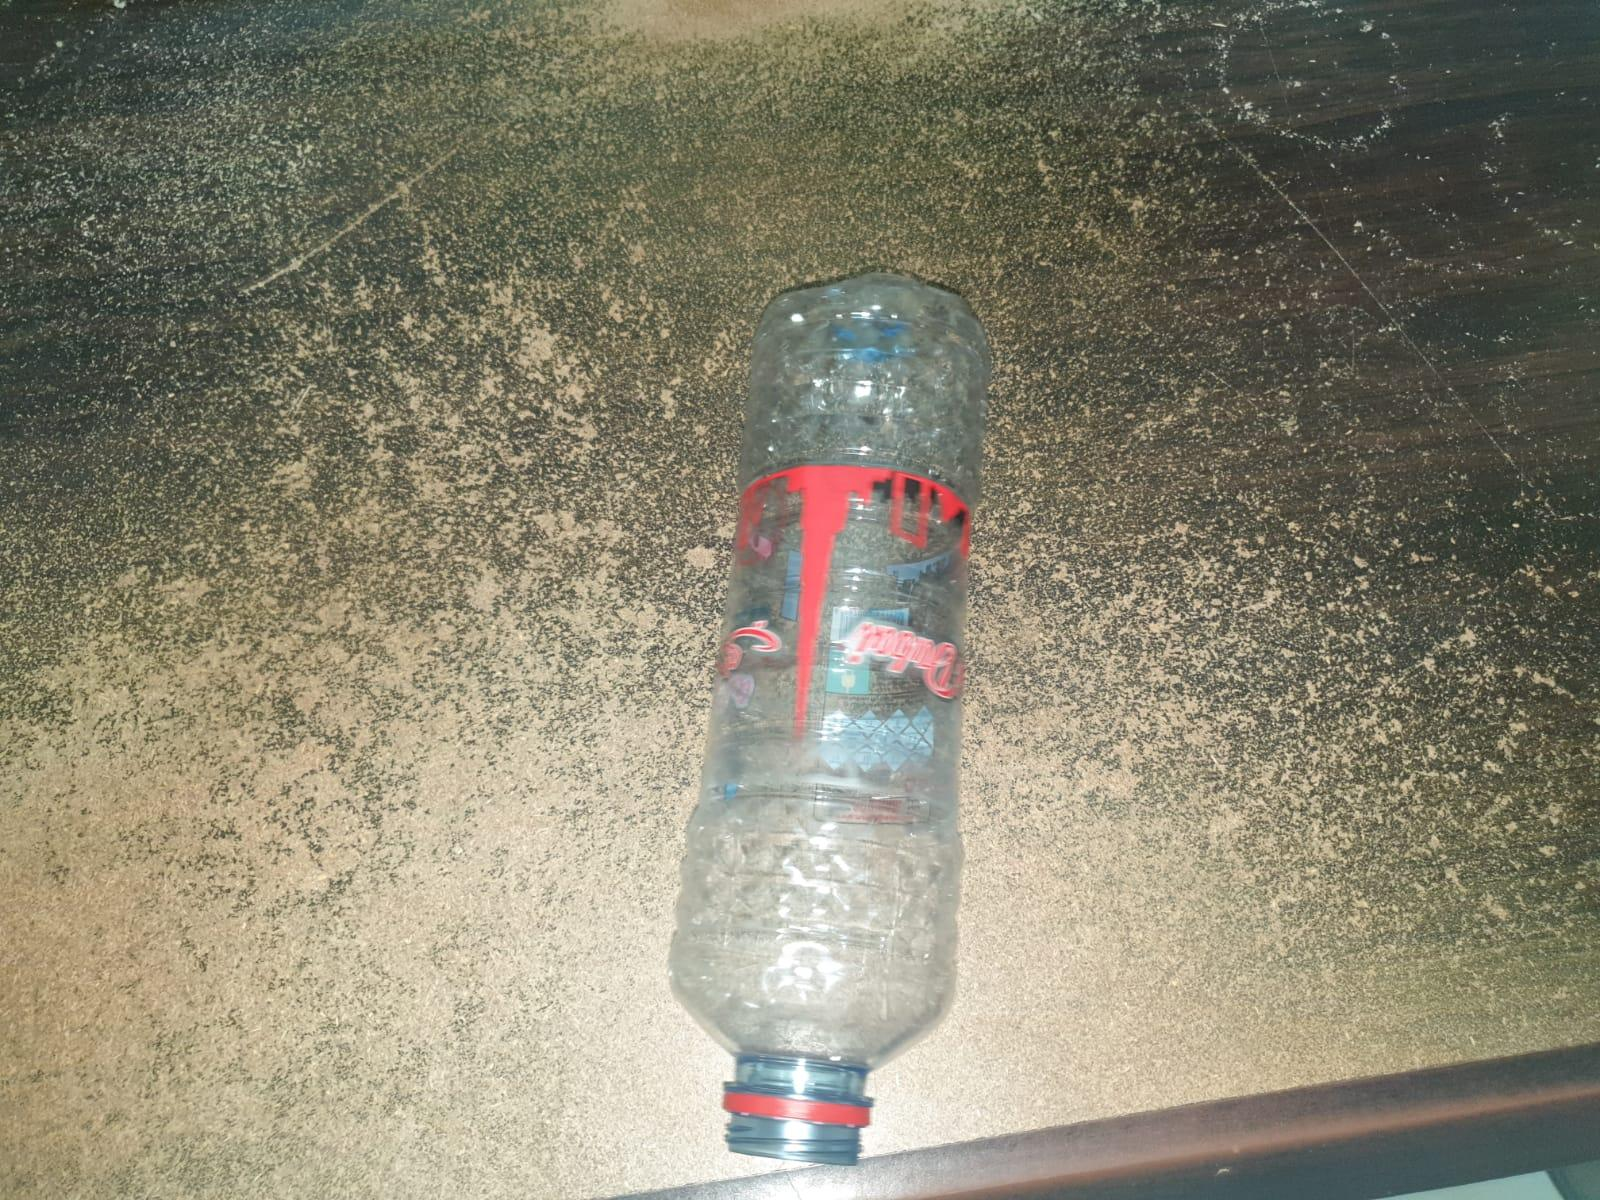bottle: (630, 280, 999, 1185)
